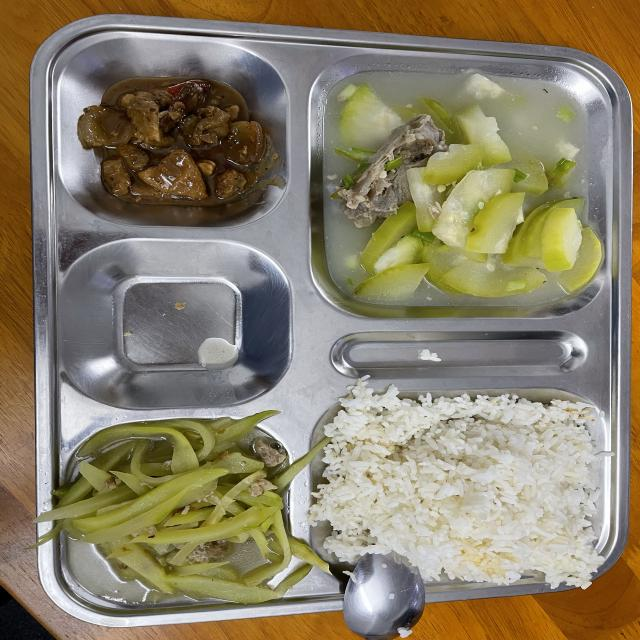com_trang: (348, 395, 598, 571)
thit_kho: (100, 84, 260, 207)
